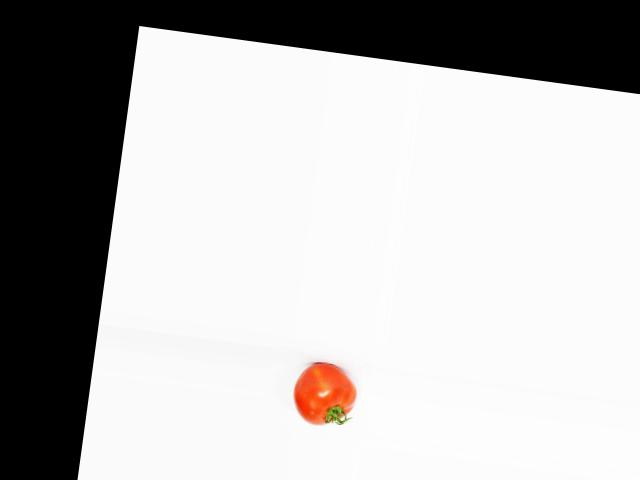tomato: (289, 359, 359, 430)
